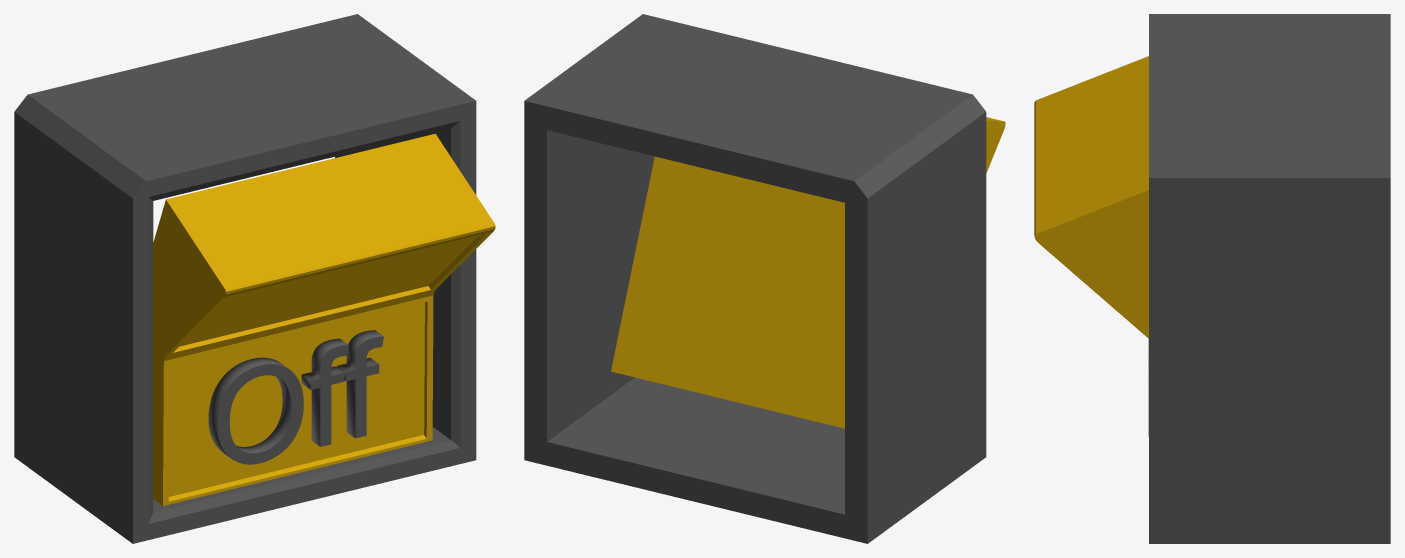
Rendered from buttons_spec_off.glb.
3 views of the same model, side by side, from view 1: azimuth 30°, elevation 25°; view 2: azimuth 150°, elevation 25°; view 3: azimuth 270°, elevation 25° (orthographic).
Parts seen in each view (by area): view 1: Text.001; view 2: Text.001; view 3: Text.001.
Boxes of the visible parts, x1,y1,x2,y2 form: Text.001: [14, 14, 495, 543]; Text.001: [524, 14, 1005, 543]; Text.001: [1034, 14, 1390, 543].
Size of the model in its own units: 3.99 by 3.99 by 3.52.
